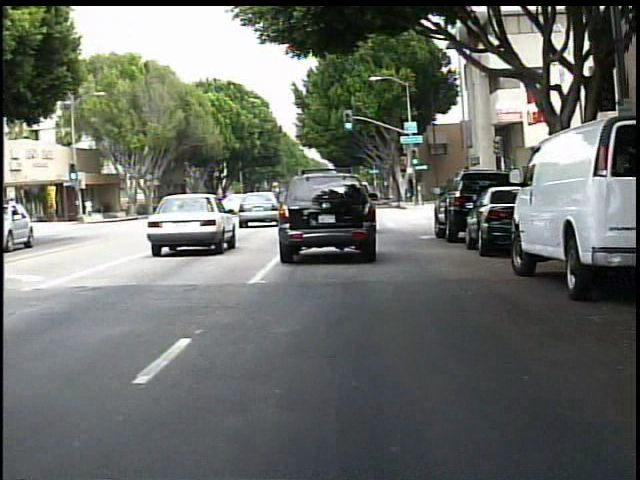person: (84, 196, 97, 221)
